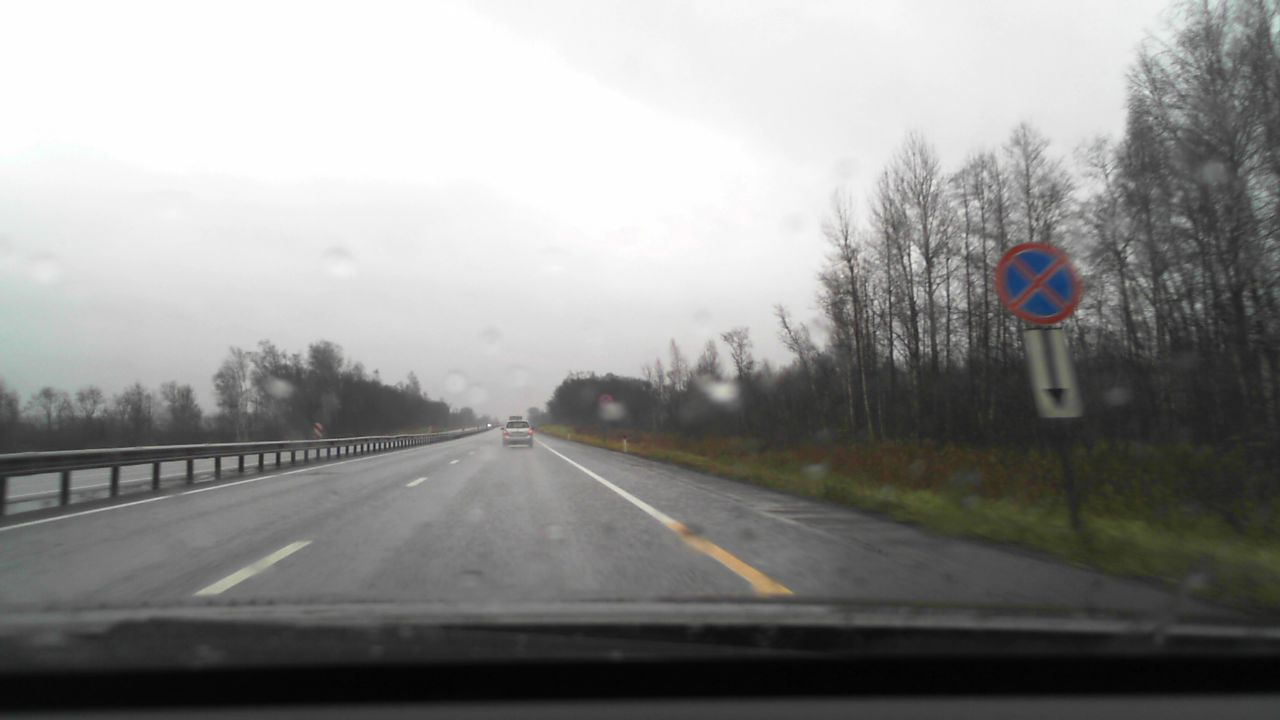No Parking: (994, 241, 1080, 324)
